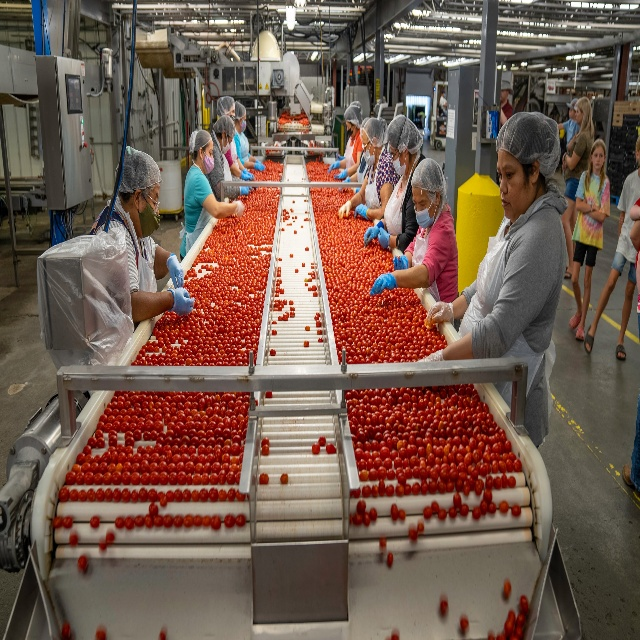Gafas: (147, 194, 160, 213), (390, 149, 398, 161), (363, 140, 371, 150)
Guantes: (167, 284, 194, 314), (426, 299, 454, 326), (164, 253, 184, 286), (369, 273, 395, 293), (378, 225, 392, 251), (353, 203, 368, 220), (364, 224, 375, 247), (338, 201, 351, 220), (422, 350, 445, 360), (232, 195, 244, 214), (393, 253, 409, 267), (240, 179, 252, 195), (243, 168, 255, 180), (252, 157, 263, 170)
Mascara: (137, 192, 162, 238), (414, 203, 434, 229), (391, 157, 408, 176), (203, 151, 214, 171), (362, 149, 374, 166), (222, 136, 230, 154), (346, 126, 353, 137), (242, 117, 247, 129)
